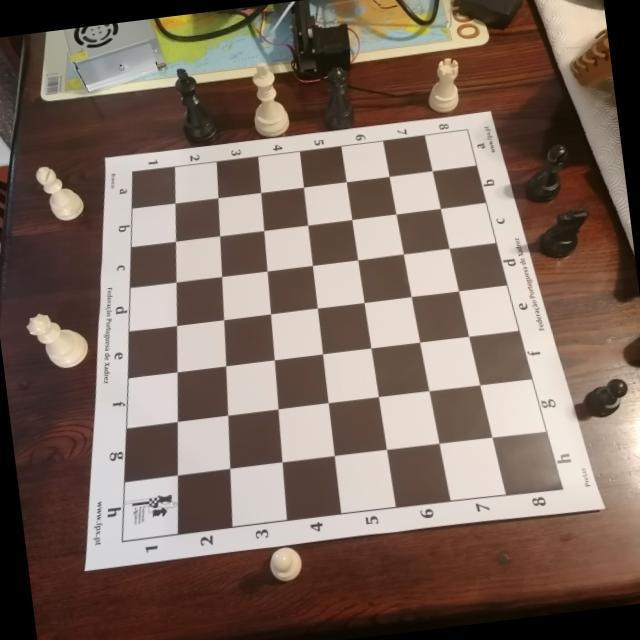black-bishop: (519, 143, 573, 205)
black-king: (172, 64, 220, 148)
black-knight: (534, 205, 593, 260)
black-pawn: (585, 375, 631, 418)
black-queen: (315, 64, 356, 132)
white-bishop: (33, 160, 86, 223)
white-king: (245, 58, 291, 138)
white-pawn: (267, 544, 305, 584)
white-queen: (24, 308, 92, 372)
white-rook: (422, 54, 464, 114)
